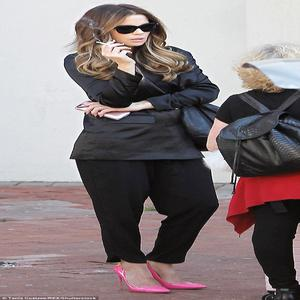cigarette: (93, 38, 122, 48)
